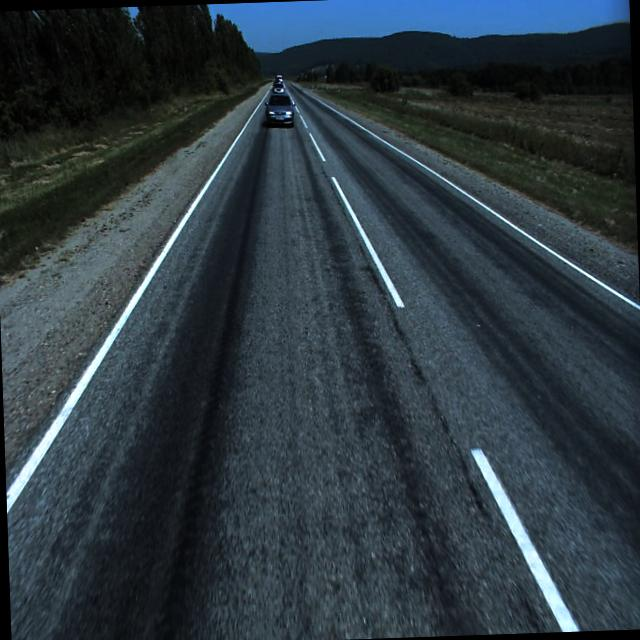road: (5, 80, 640, 640)
